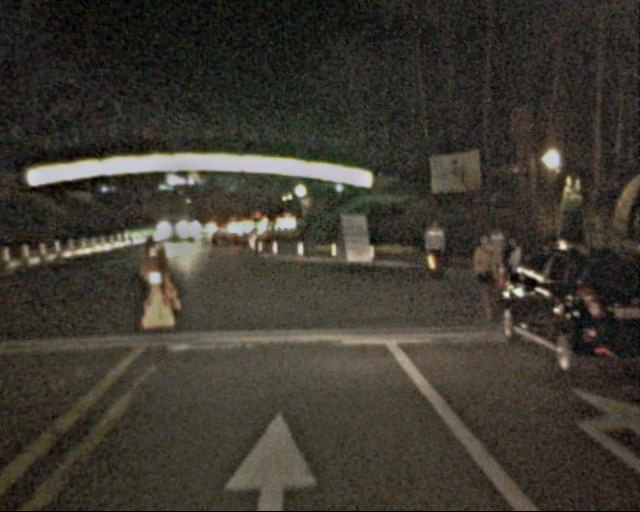person: (467, 235, 501, 310), (496, 236, 527, 308), (421, 217, 451, 285)
